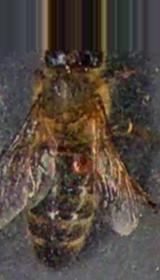varroa_mite: (64, 151, 104, 176)
